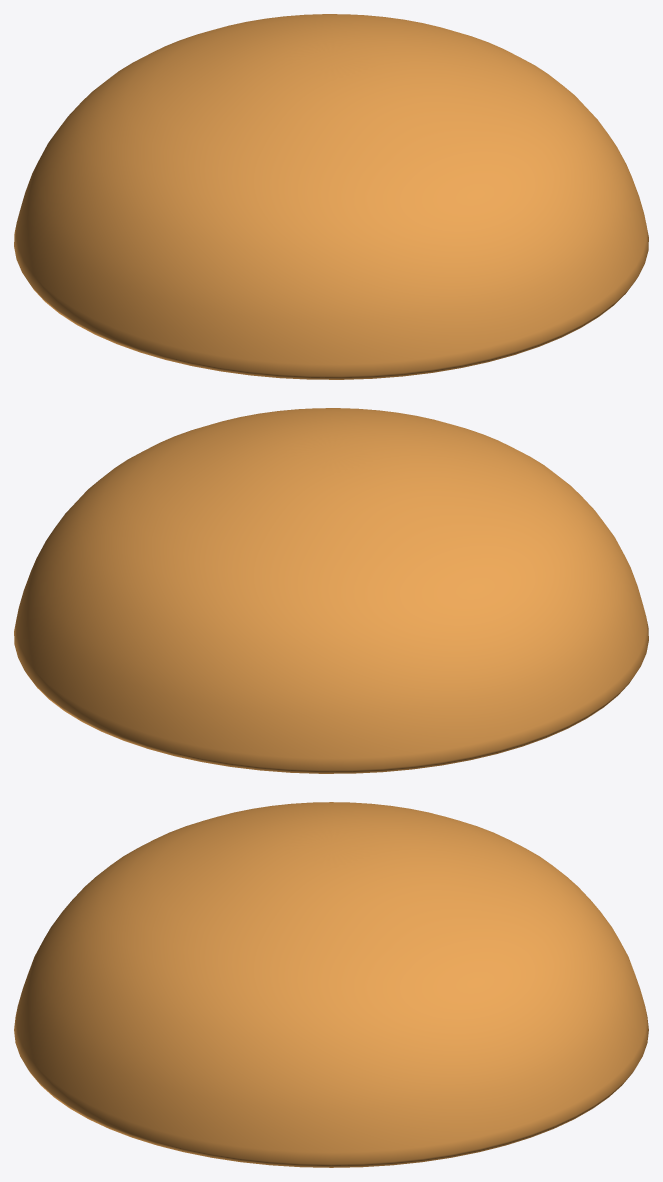
Rendered from BurgerUP.fbx.
3 renders of one model, top to bottom at view 1: azimuth 30°, elevation 25°; view 2: azimuth 150°, elevation 25°; view 3: azimuth 270°, elevation 25°, orthographic.
Visible parts, largest first — view 1: Sphere.007; view 2: Sphere.007; view 3: Sphere.007.
Part boxes in pixels (<box>): Sphere.007: <box>14,14,648,379</box>; Sphere.007: <box>14,408,648,773</box>; Sphere.007: <box>14,802,648,1167</box>.
Bounding box in the file's own units: 18.25 × 6.01 × 18.25.
